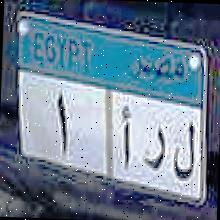1: (52, 92, 71, 154)
alif: (116, 101, 136, 170)
laam: (169, 120, 198, 180)
raa: (144, 124, 168, 169)
